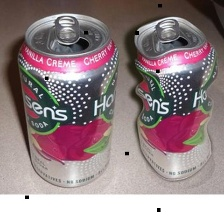can: (15, 10, 120, 189), (130, 12, 221, 182)
